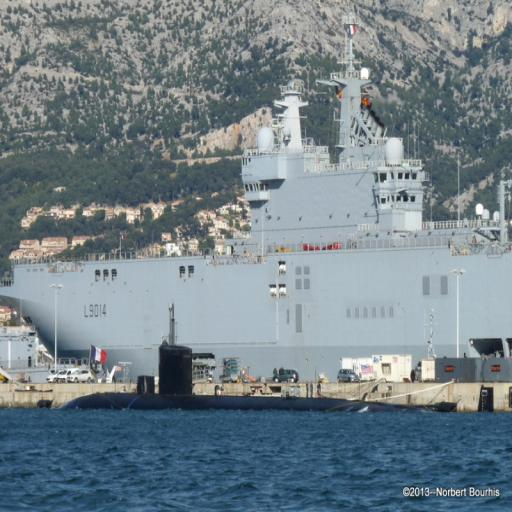submarine: (61, 342, 498, 412)
